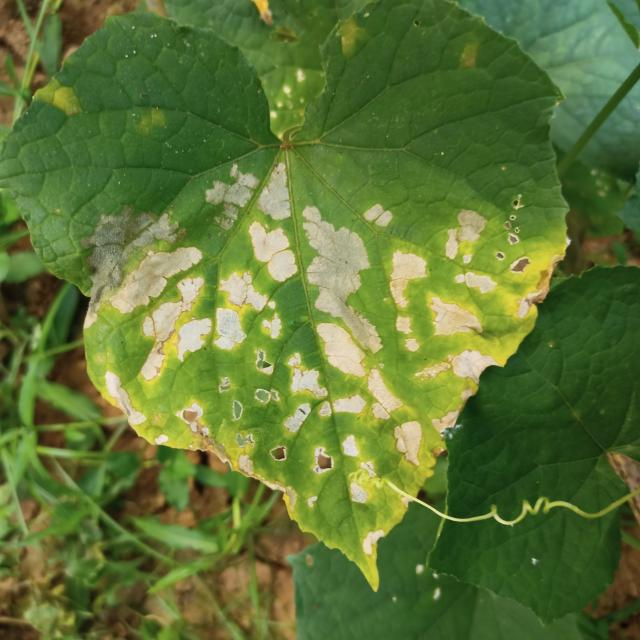disease_cucumber: (82, 155, 568, 533), (26, 70, 98, 132)
